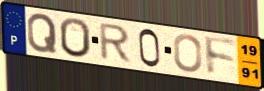0: (137, 28, 161, 69)
F: (203, 34, 239, 78)
O: (58, 17, 92, 60), (172, 33, 203, 74)
Q: (26, 12, 59, 54)
R: (98, 22, 133, 64)
